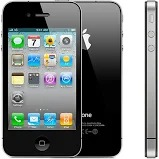iphone: (1, 1, 82, 159)
iphone4: (1, 1, 82, 159)
